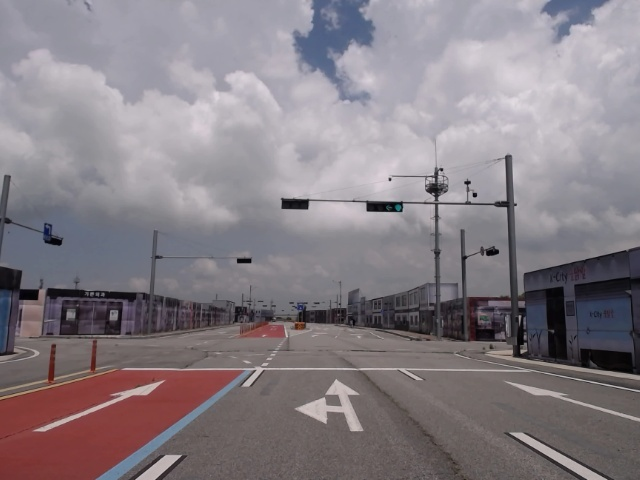all_green_4: (364, 201, 404, 212)
